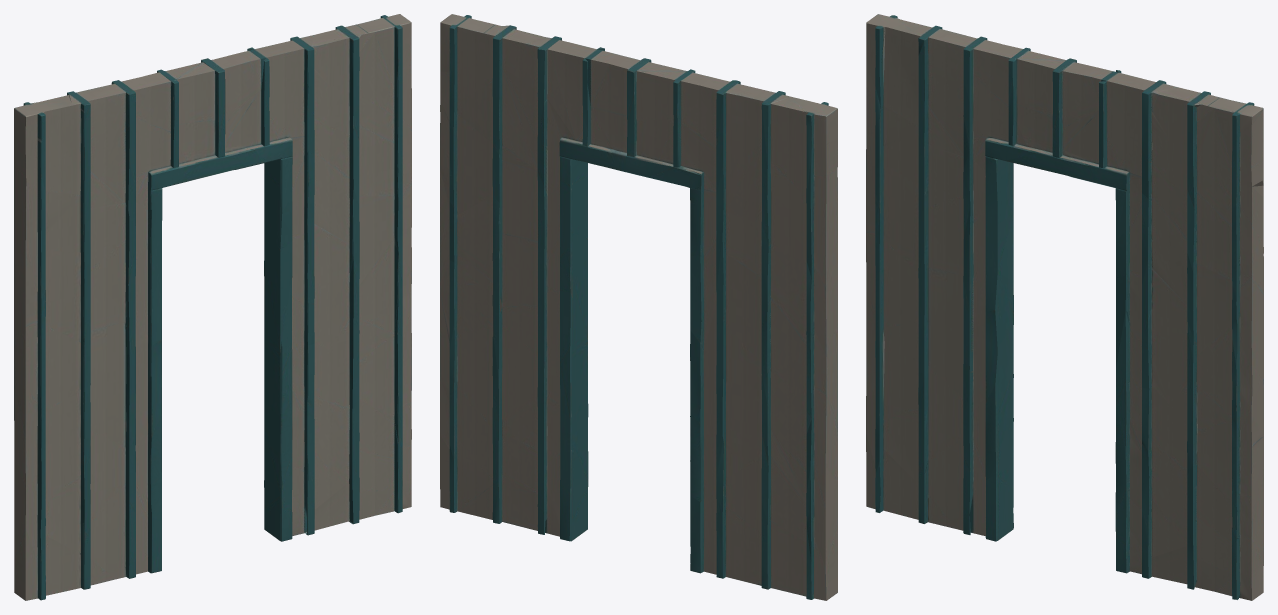
Rendered from doorway.glb.
3 renders of one model, left to right at view 1: azimuth 30°, elevation 25°; view 2: azimuth 150°, elevation 25°; view 3: azimuth 330°, elevation 25°, orthographic.
Visible parts, largest first — view 1: Mesh_0; view 2: Mesh_0; view 3: Mesh_0.
Part boxes in pixels (left/top/right/bottom): Mesh_0: left=14, top=14, right=411, bottom=600; Mesh_0: left=440, top=14, right=837, bottom=600; Mesh_0: left=866, top=14, right=1263, bottom=600.
Size of the model in its own units: 2 by 2.4 by 0.16.
Materials: 1 (1 with a texture image).
